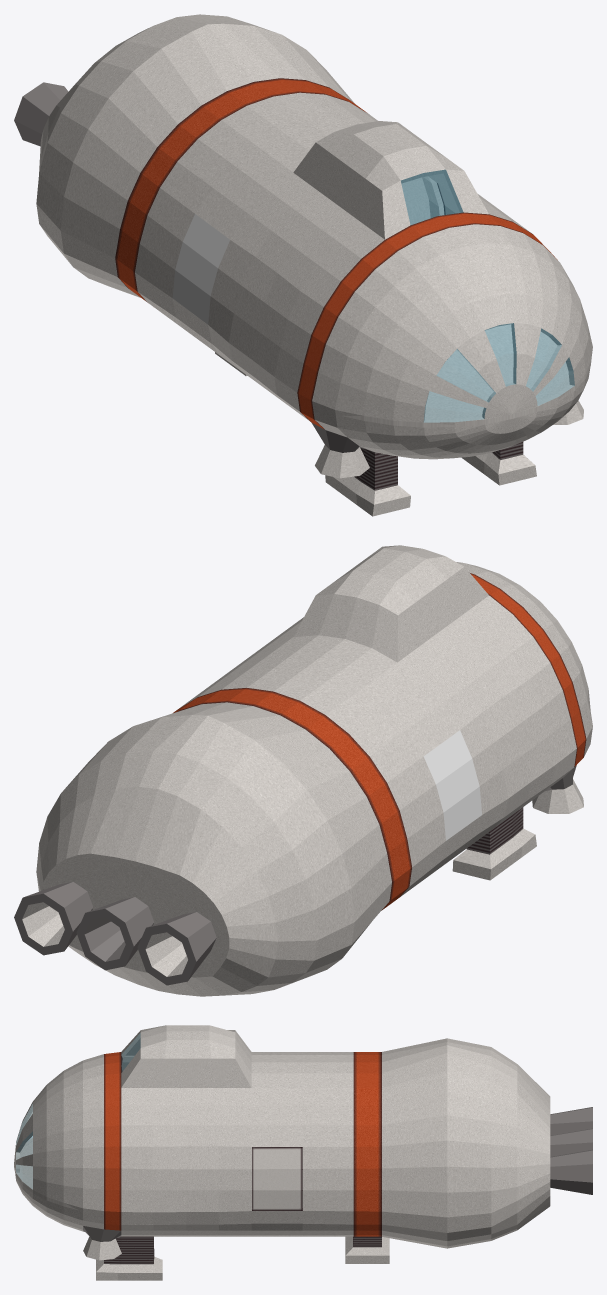
Rendered from Ship.fbx.
3 renders of one model, top to bottom at view 1: azimuth 30°, elevation 25°; view 2: azimuth 150°, elevation 25°; view 3: azimuth 270°, elevation 25°, orthographic. The views are drawn at different scales.
Visible parts, largest first — view 1: Cylinder.001, Cylinder, Cylinder.002, Door.R; view 2: Cylinder, Cylinder.001, Door.R; view 3: Cylinder, Cylinder.001, Door.L, Cylinder.002.
Part boxes in pixels (bbox=[...]): Cylinder.001: bbox=[195, 119, 592, 422]; Cylinder: bbox=[14, 14, 592, 516]; Cylinder.002: bbox=[401, 170, 574, 422]; Door.R: bbox=[172, 214, 229, 324]; Cylinder: bbox=[14, 661, 592, 996]; Cylinder.001: bbox=[215, 545, 592, 814]; Door.R: bbox=[423, 730, 481, 840]; Cylinder: bbox=[14, 1038, 592, 1280]; Cylinder.001: bbox=[14, 1025, 302, 1212]; Door.L: bbox=[252, 1147, 302, 1210]; Cylinder.002: bbox=[16, 1033, 140, 1188].
Size of the model in its own units: 432 by 436 by 1036.
2 materials, 1 textured.
